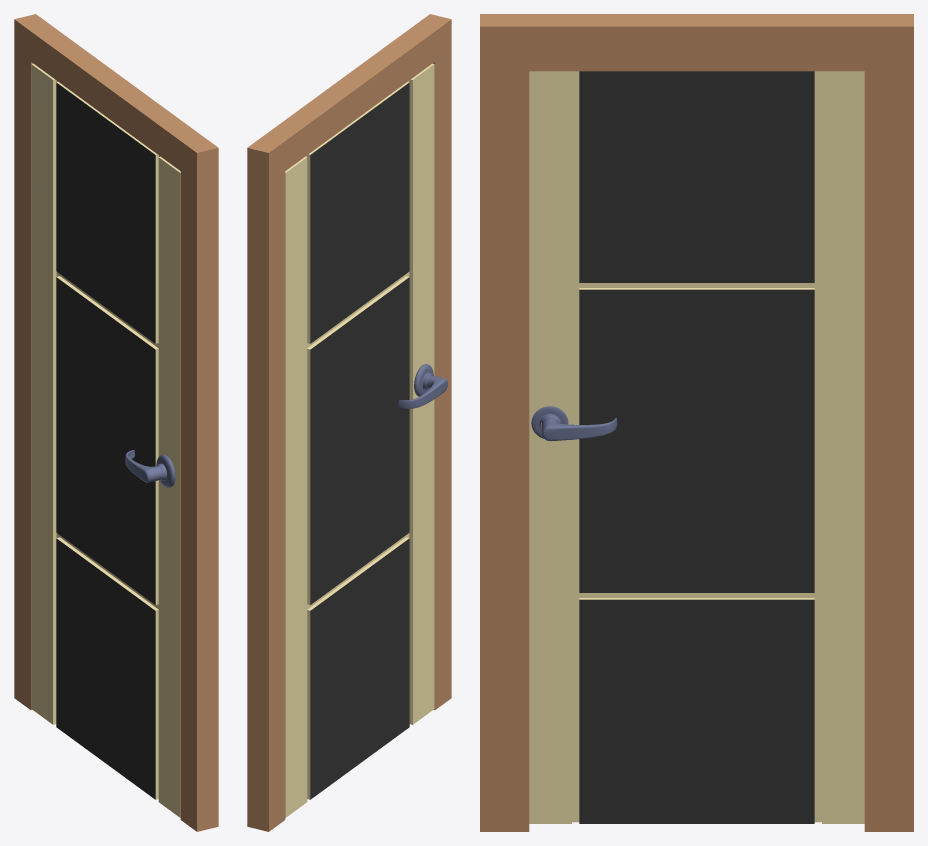
The model's file is door.fbx.
The picture shows the model from 3 angles, left to right: view 1: azimuth 30°, elevation 25°; view 2: azimuth 150°, elevation 25°; view 3: azimuth 270°, elevation 25°; orthographic projection. The views are drawn at different scales.
Visible parts, largest first — view 1: Door_011_27, DoorFrame_011_28, Handle_Back_011_25; view 2: Door_011_27, DoorFrame_011_28, Handle_Back_011_25; view 3: Door_011_27, DoorFrame_011_28, Handle_Front_011_26.
Boxes of the visible parts, <box> form: Door_011_27: <box>31,63,180,817</box>; DoorFrame_011_28: <box>14,14,218,831</box>; Handle_Back_011_25: <box>125,450,175,487</box>; Door_011_27: <box>285,63,434,817</box>; DoorFrame_011_28: <box>247,14,451,831</box>; Handle_Back_011_25: <box>398,364,447,408</box>; Door_011_27: <box>529,71,864,823</box>; DoorFrame_011_28: <box>480,14,913,831</box>; Handle_Front_011_26: <box>531,406,617,441</box>.
Bounding box in the file's own units: 19.43 × 232 × 113.
